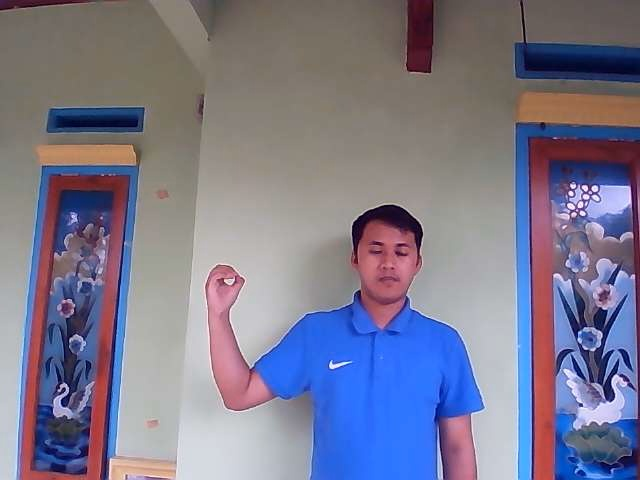O: (204, 263, 246, 314)
